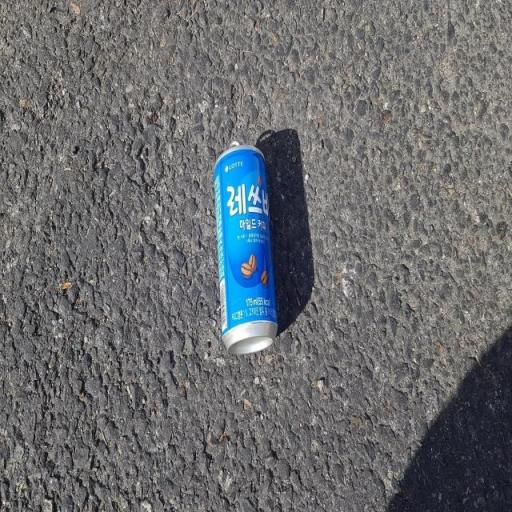metal: (169, 124, 310, 416)
